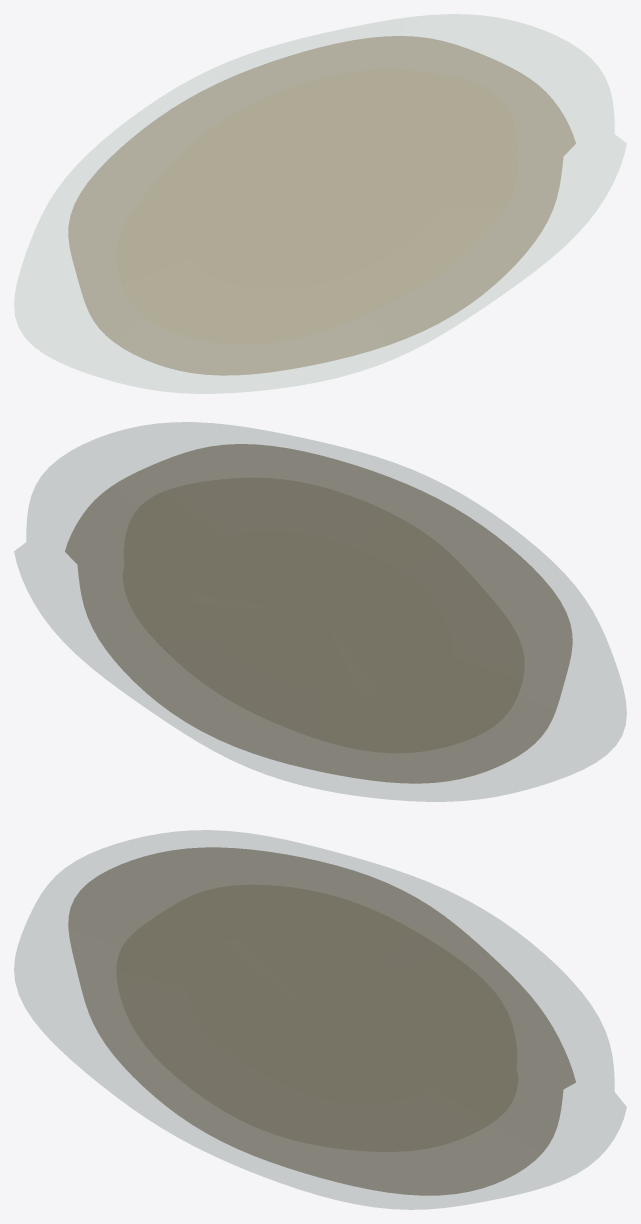
Rendered from hl-island-sand-alpha-v1.glb.
The picture shows the model from 3 angles, top to bottom: view 1: azimuth 30°, elevation 25°; view 2: azimuth 150°, elevation 25°; view 3: azimuth 330°, elevation 25°; orthographic projection.
Visible parts, largest first — view 1: HL Island Sand Alpha v1; view 2: HL Island Sand Alpha v1; view 3: HL Island Sand Alpha v1.
Part boxes in pixels (x1,y1,x2,y2): HL Island Sand Alpha v1: (14,14,626,393); HL Island Sand Alpha v1: (14,422,626,801); HL Island Sand Alpha v1: (14,830,626,1209).
Size of the model in its own units: 211 by 115 by 0.137.
